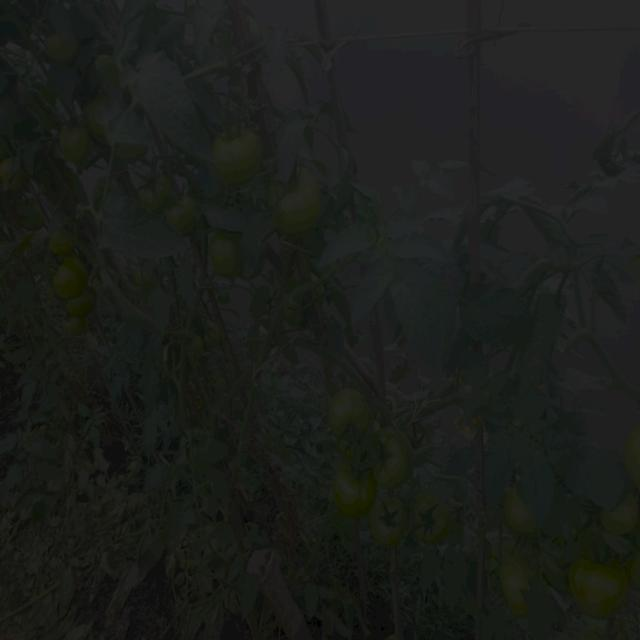tomato: (277, 168, 329, 236), (362, 424, 413, 493), (571, 559, 627, 620), (412, 482, 456, 551), (216, 128, 272, 175), (371, 489, 410, 548), (330, 464, 372, 516), (162, 192, 206, 236), (51, 256, 98, 297), (337, 384, 369, 443), (138, 170, 177, 209), (58, 122, 89, 170), (603, 498, 640, 535), (213, 232, 242, 279), (88, 98, 112, 148), (504, 566, 527, 618), (44, 34, 79, 64), (506, 492, 530, 534), (7, 159, 33, 193), (52, 231, 78, 263), (71, 296, 107, 318), (629, 425, 640, 496), (59, 317, 83, 338)
